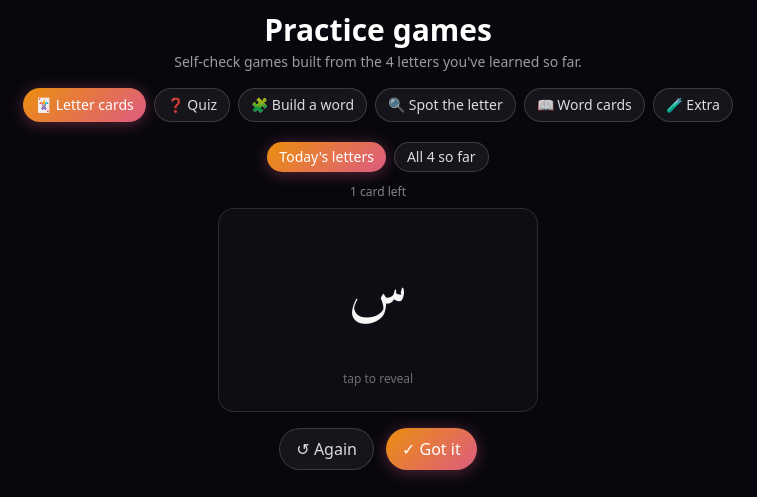
Test case: registry-declared drills › mounts a drill the lesson asks for by id
Step 1. Click the button "🧪 Extra" → (693, 105), box [653, 88, 733, 122]
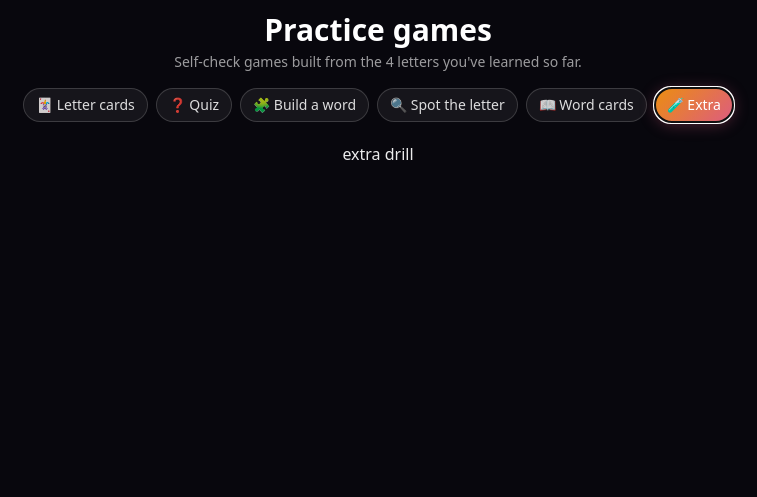
Now the text "extra drill" is shown, box [342, 143, 414, 165]
